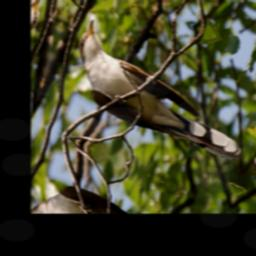Cuckoo: (62, 15, 256, 175)
